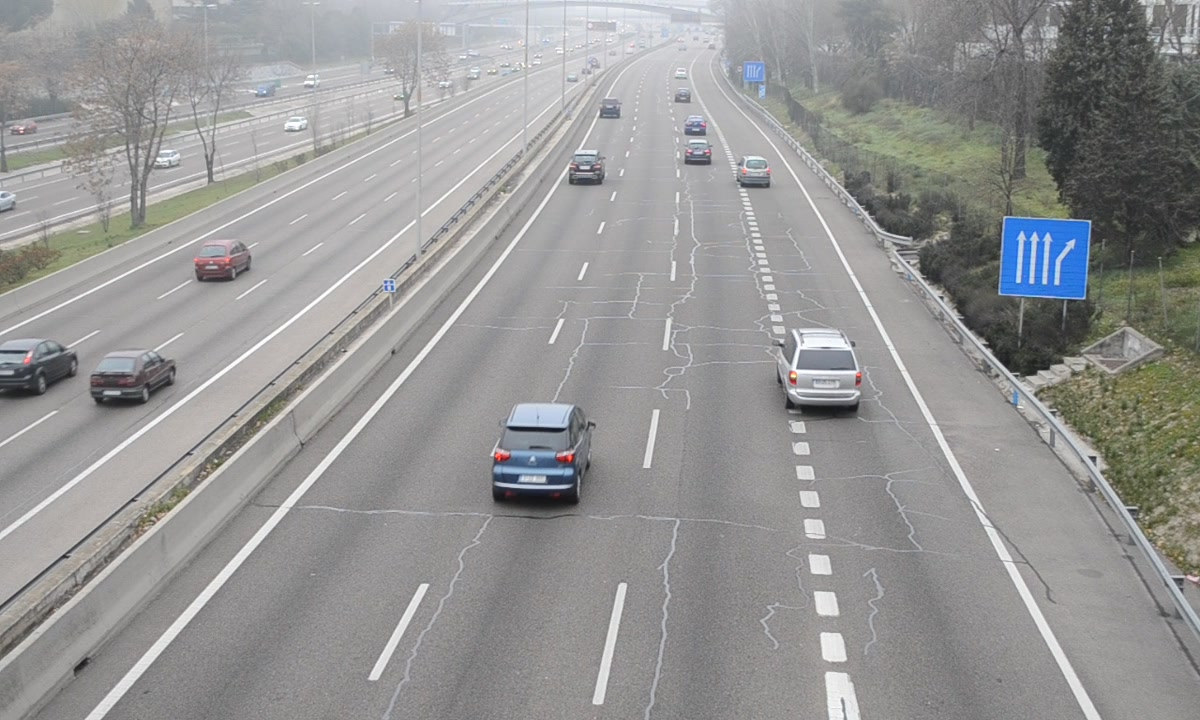car: (491, 404, 593, 502), (779, 329, 862, 409), (569, 150, 604, 187), (737, 154, 772, 189), (683, 138, 713, 167)
